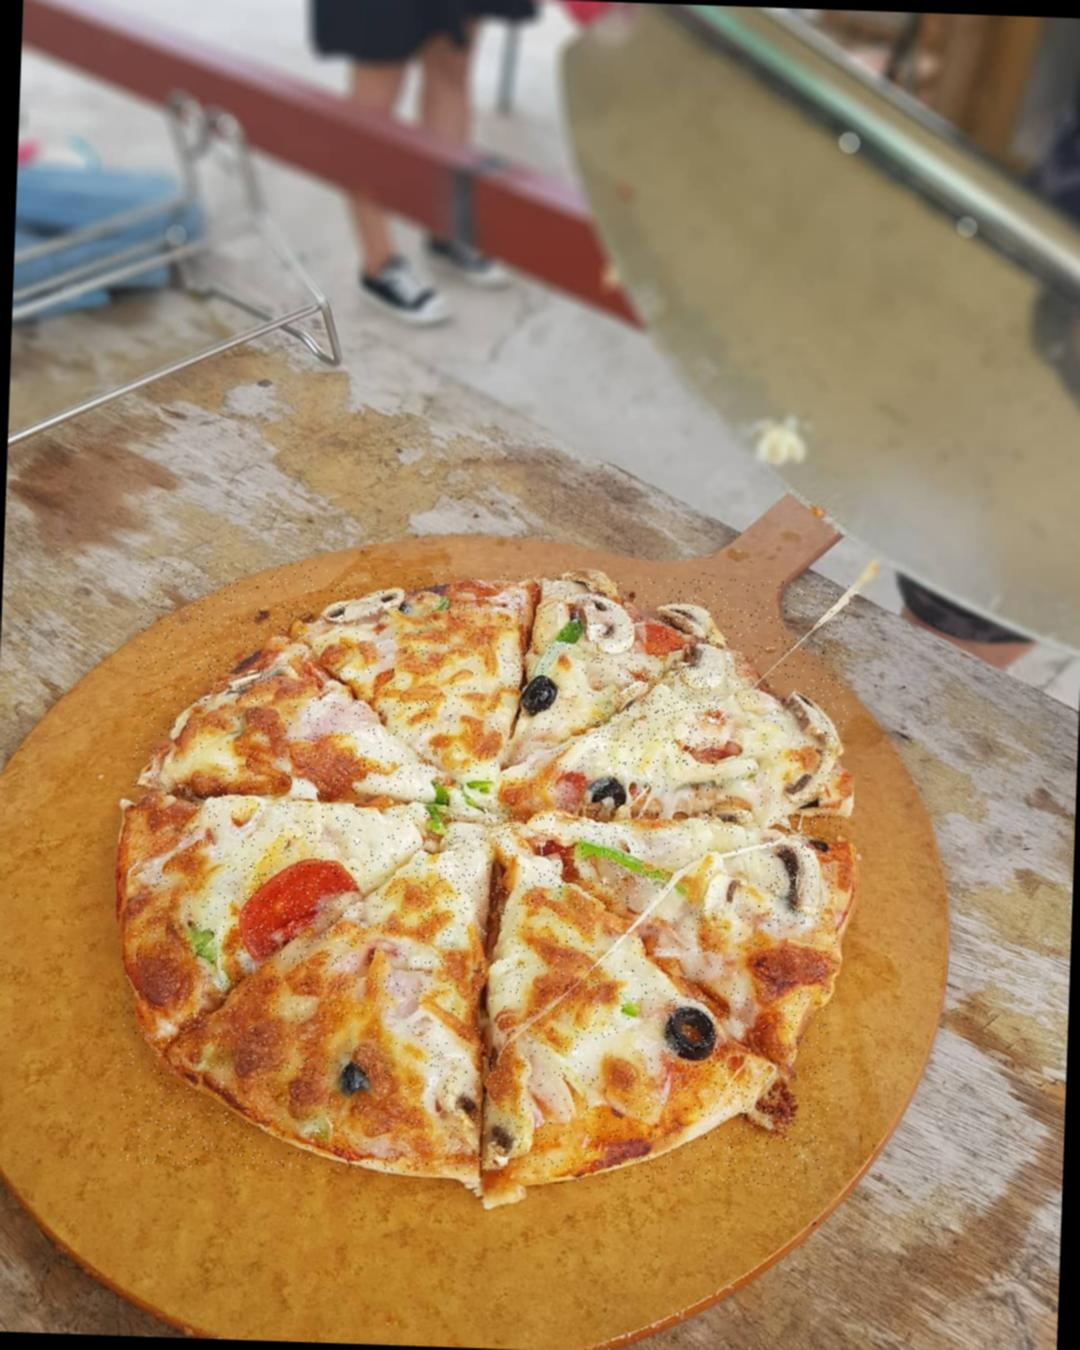Cheese: (407, 972, 616, 1080), (415, 812, 563, 917), (302, 698, 440, 798), (593, 660, 722, 767), (656, 820, 762, 911), (280, 802, 438, 849), (575, 822, 646, 909)
Mushroom: (554, 581, 636, 658), (767, 829, 816, 926), (654, 595, 711, 647)
Olives: (662, 993, 722, 1068), (514, 668, 565, 717), (325, 1063, 378, 1110), (582, 773, 629, 817)
Pizza: (118, 560, 853, 1190)
Tomatoes: (231, 858, 363, 962)
